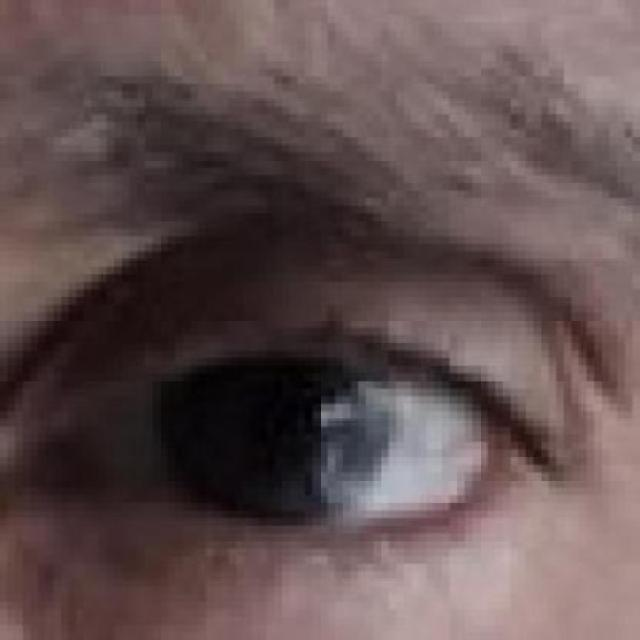awake: (0, 235, 511, 580)
